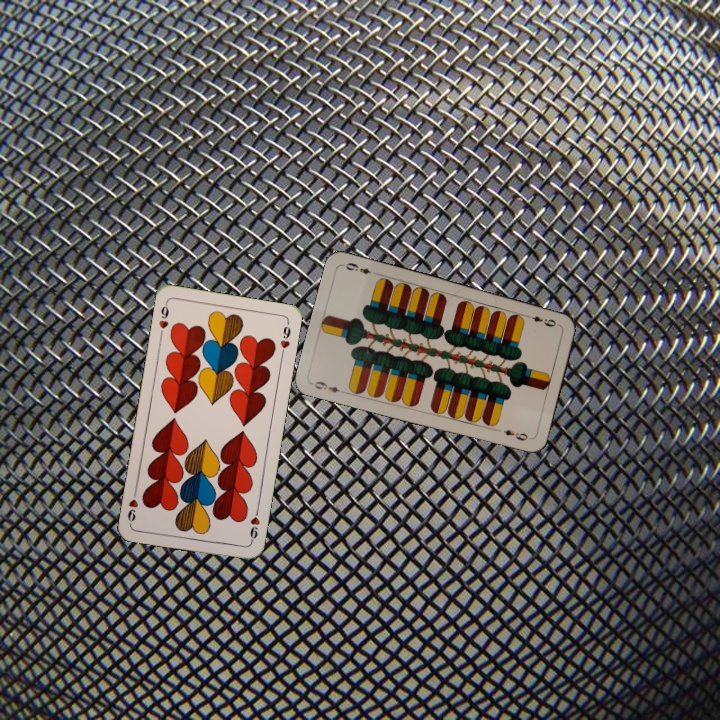E9: (521, 311, 561, 330), (310, 377, 342, 395)
H9: (155, 299, 171, 339), (246, 505, 262, 545)
